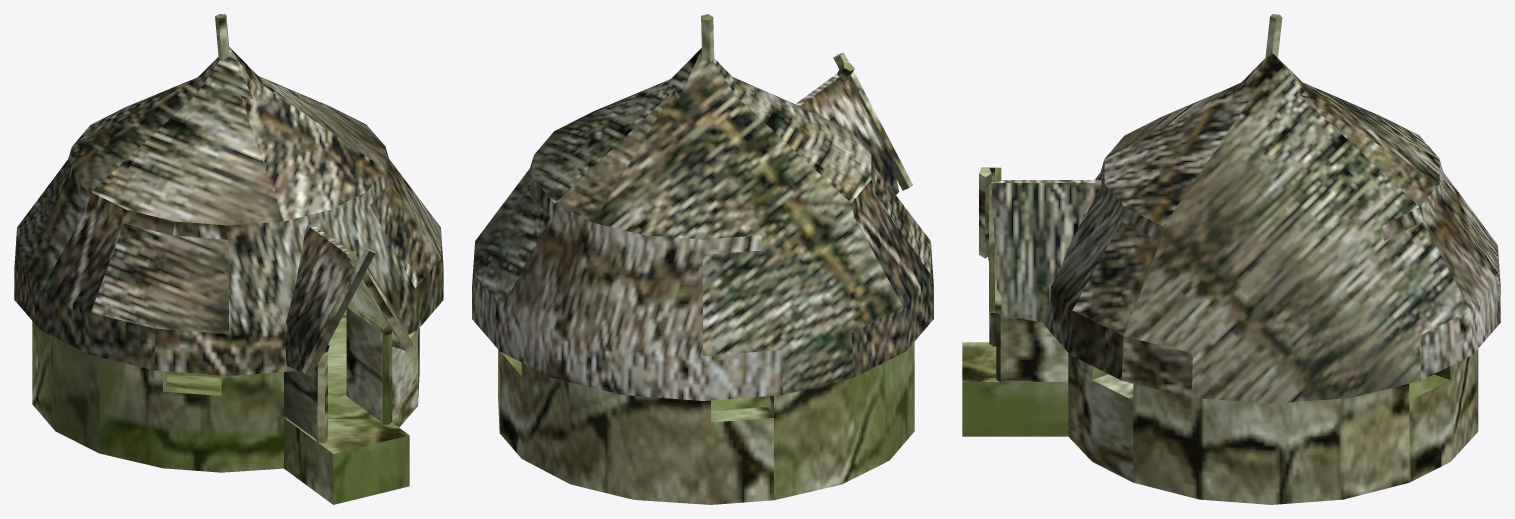
The picture shows the model from 3 angles, left to right: view 1: azimuth 30°, elevation 25°; view 2: azimuth 150°, elevation 25°; view 3: azimuth 270°, elevation 25°; orthographic projection. The views are drawn at different scales.
Parts seen in each view (by area): view 1: Cylinder25.001; view 2: Cylinder25.001; view 3: Cylinder25.001.
Boxes of the visible parts, x1,y1,x2,y2 form: Cylinder25.001: (14,14,443,504); Cylinder25.001: (472,14,933,504); Cylinder25.001: (962,14,1500,504).
Size of the model in its own units: 463 by 438 by 535.
Materials: 2 (2 with a texture image).
